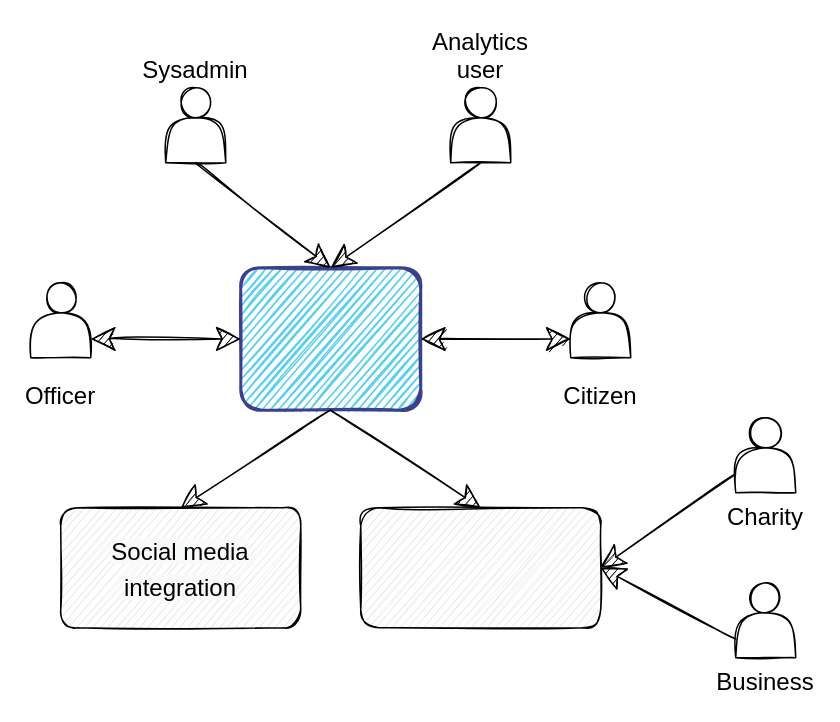
The diagram is 840 pixels wide and 722 high, and some of its shapes have lost their labels. The centre of each missing label's shape, as x and y in pixels:
#HeyBlue App: the point at 330,338
E-commerce Platform: the point at 480,567
